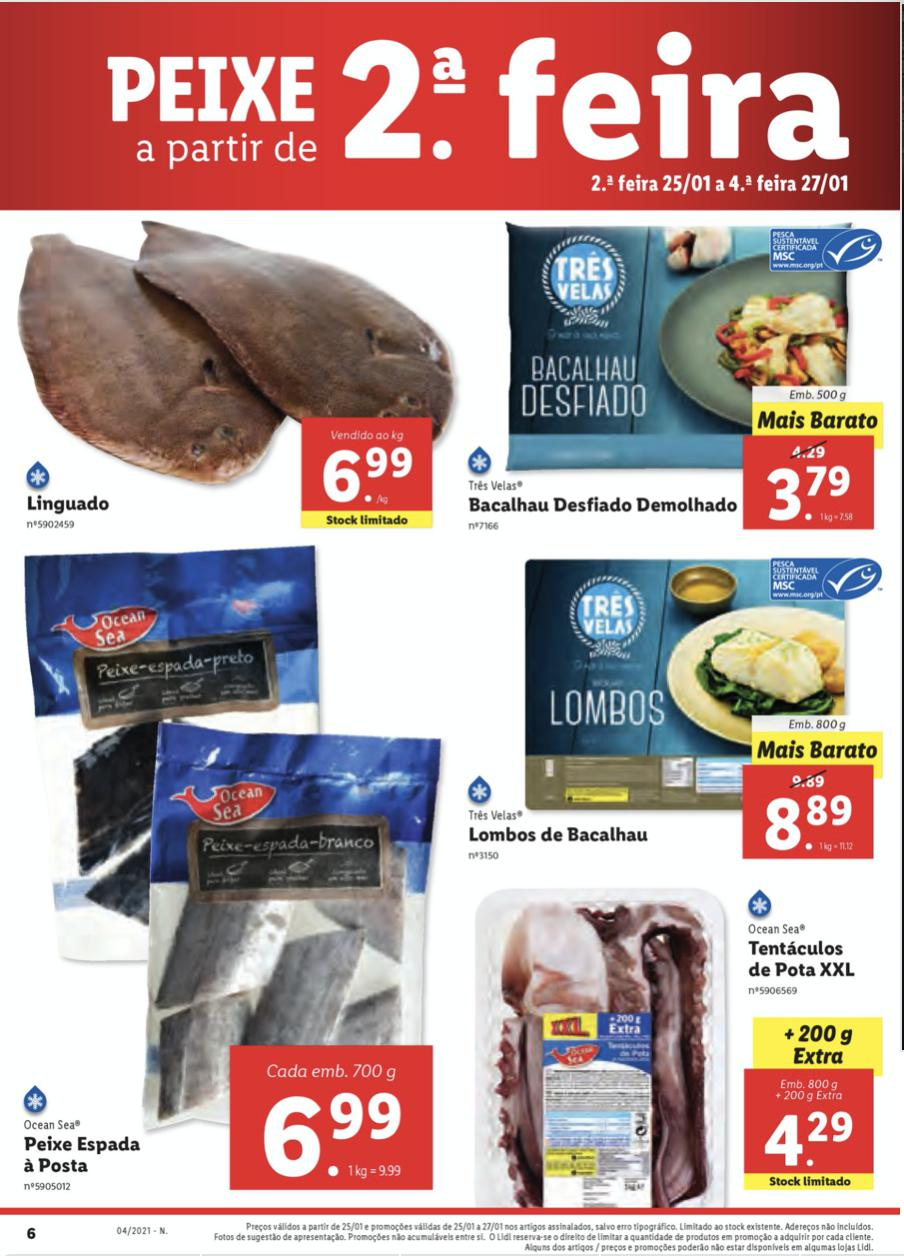name: (464, 488, 742, 519), (14, 1130, 147, 1179), (745, 938, 862, 988), (464, 822, 656, 850), (17, 486, 119, 518)
price: (261, 1082, 414, 1188), (756, 1075, 869, 1179), (761, 461, 866, 529), (322, 444, 420, 513), (764, 791, 862, 858)
product: (5, 547, 456, 1197), (448, 204, 887, 550), (1, 222, 462, 539), (448, 550, 887, 864), (456, 875, 884, 1197)
